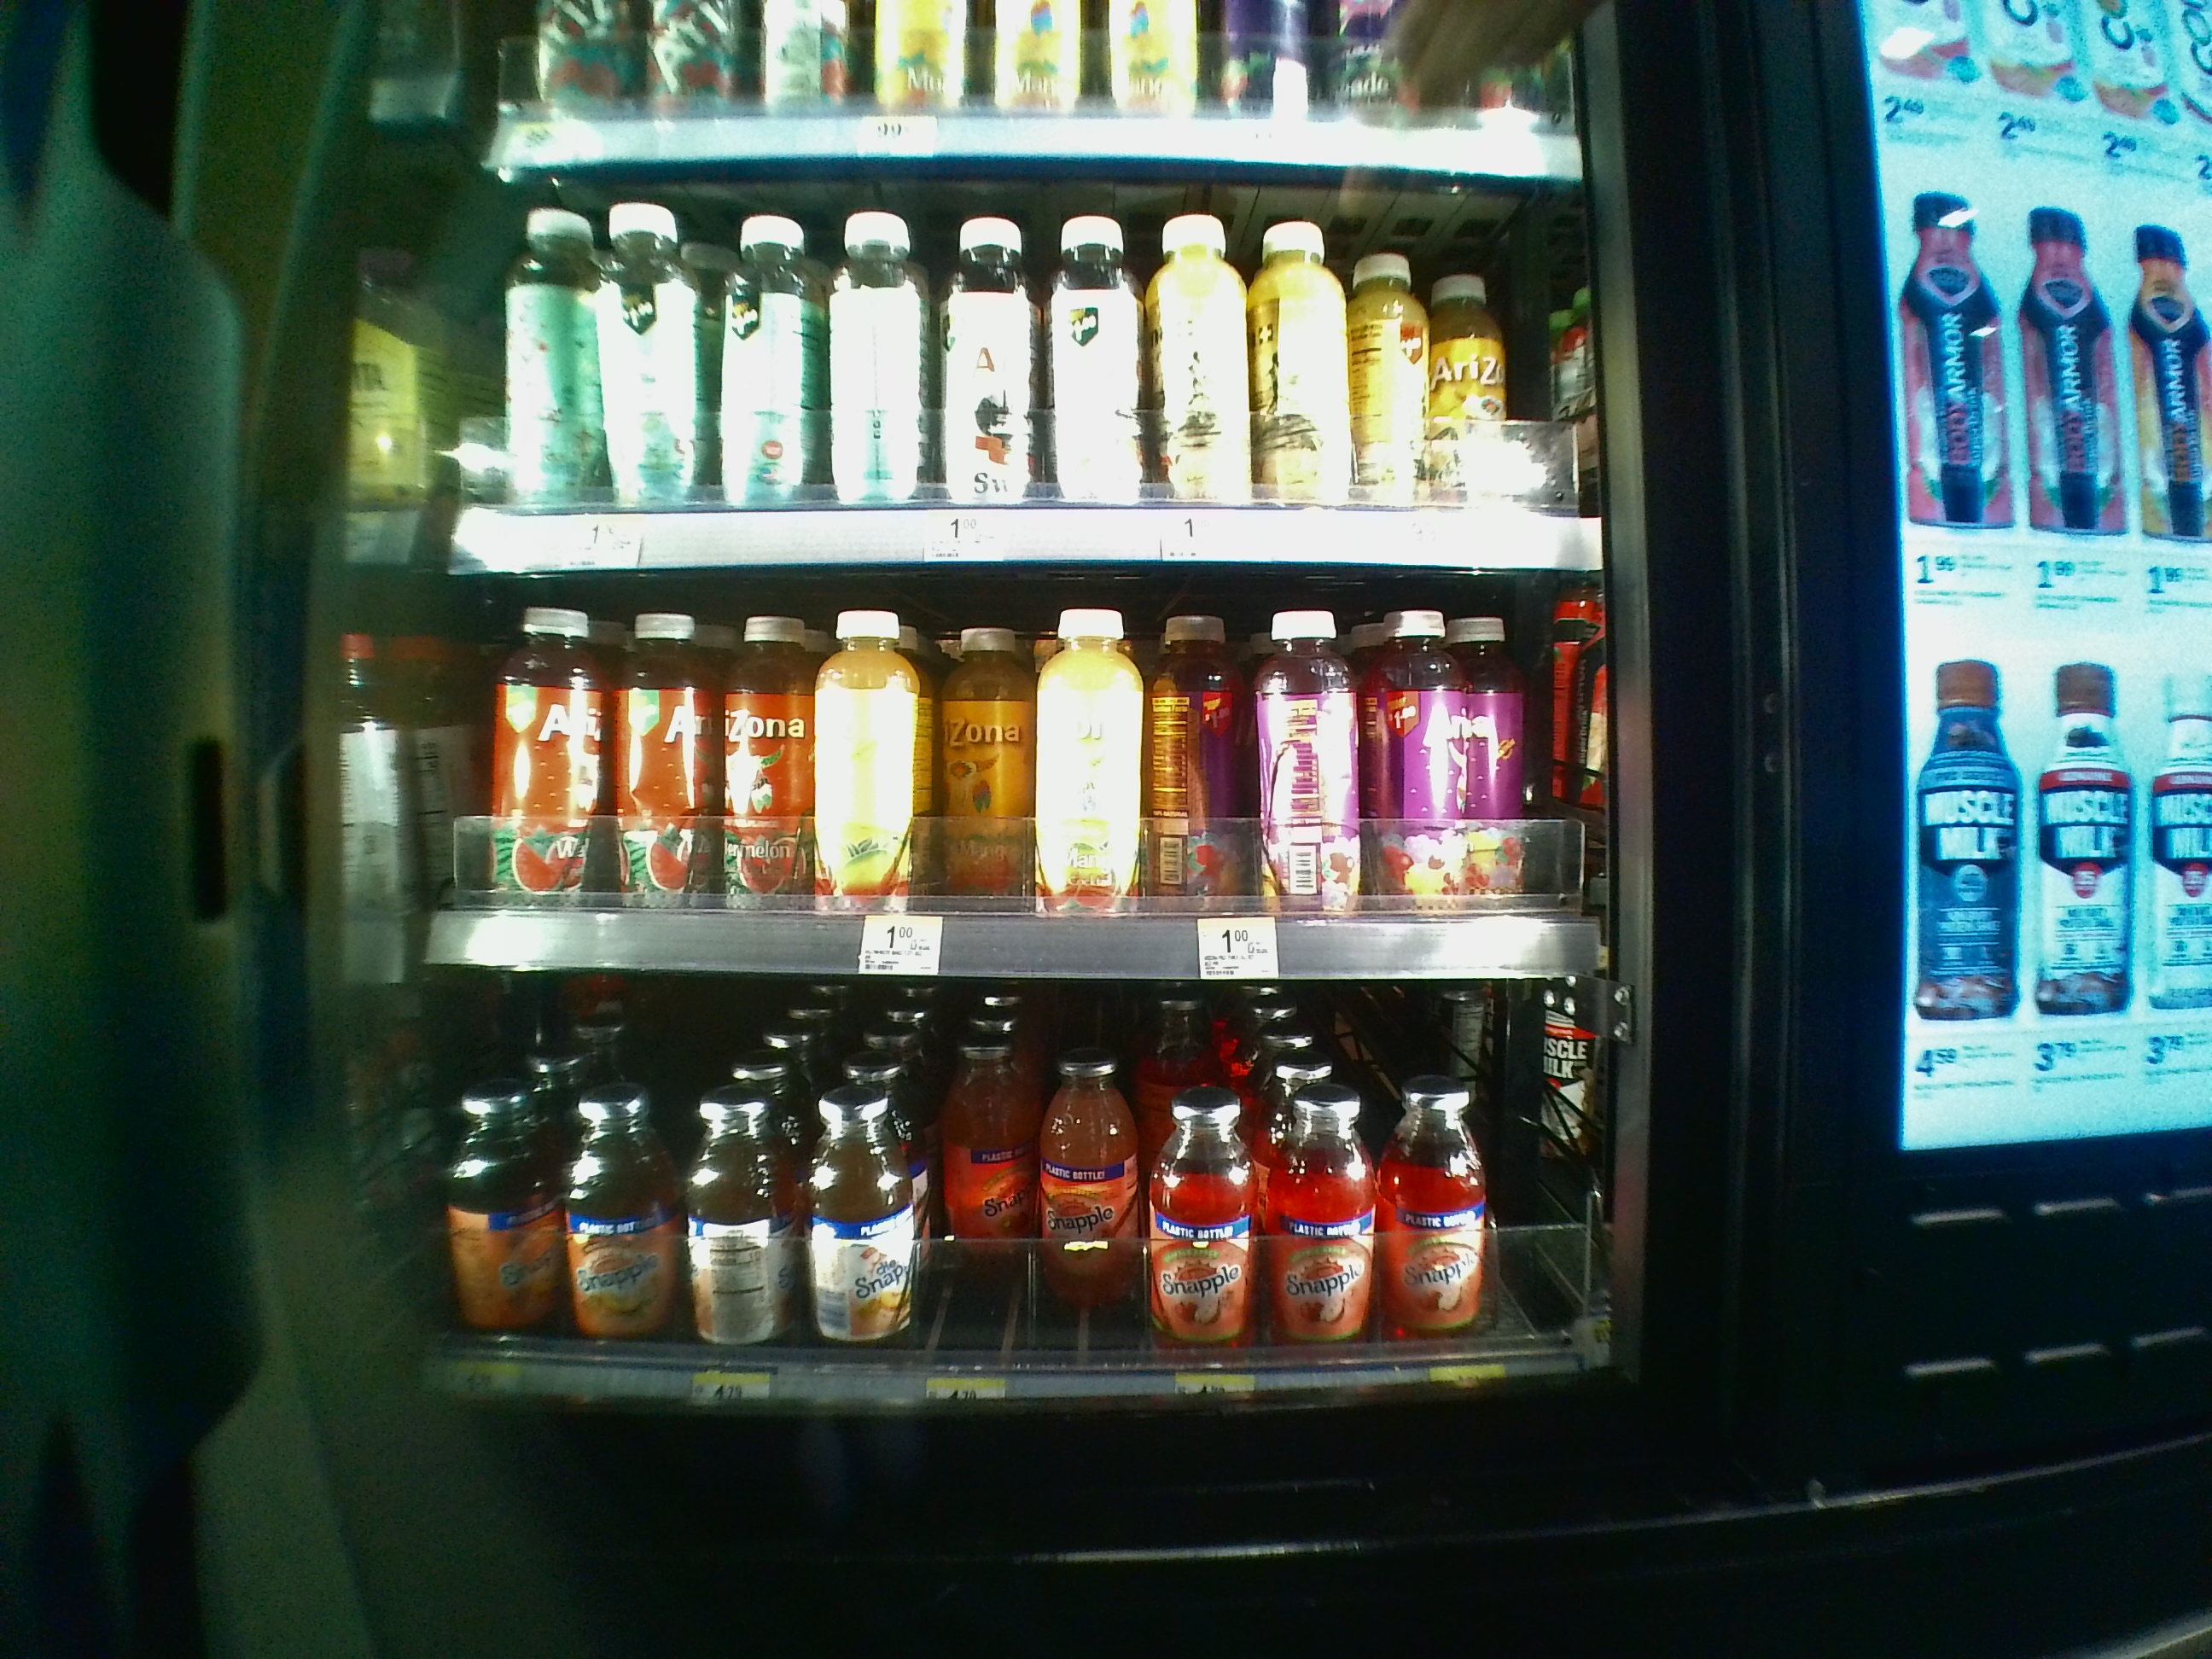shelf: (420, 988, 1611, 1417), (435, 164, 1595, 572), (425, 580, 1599, 979)
